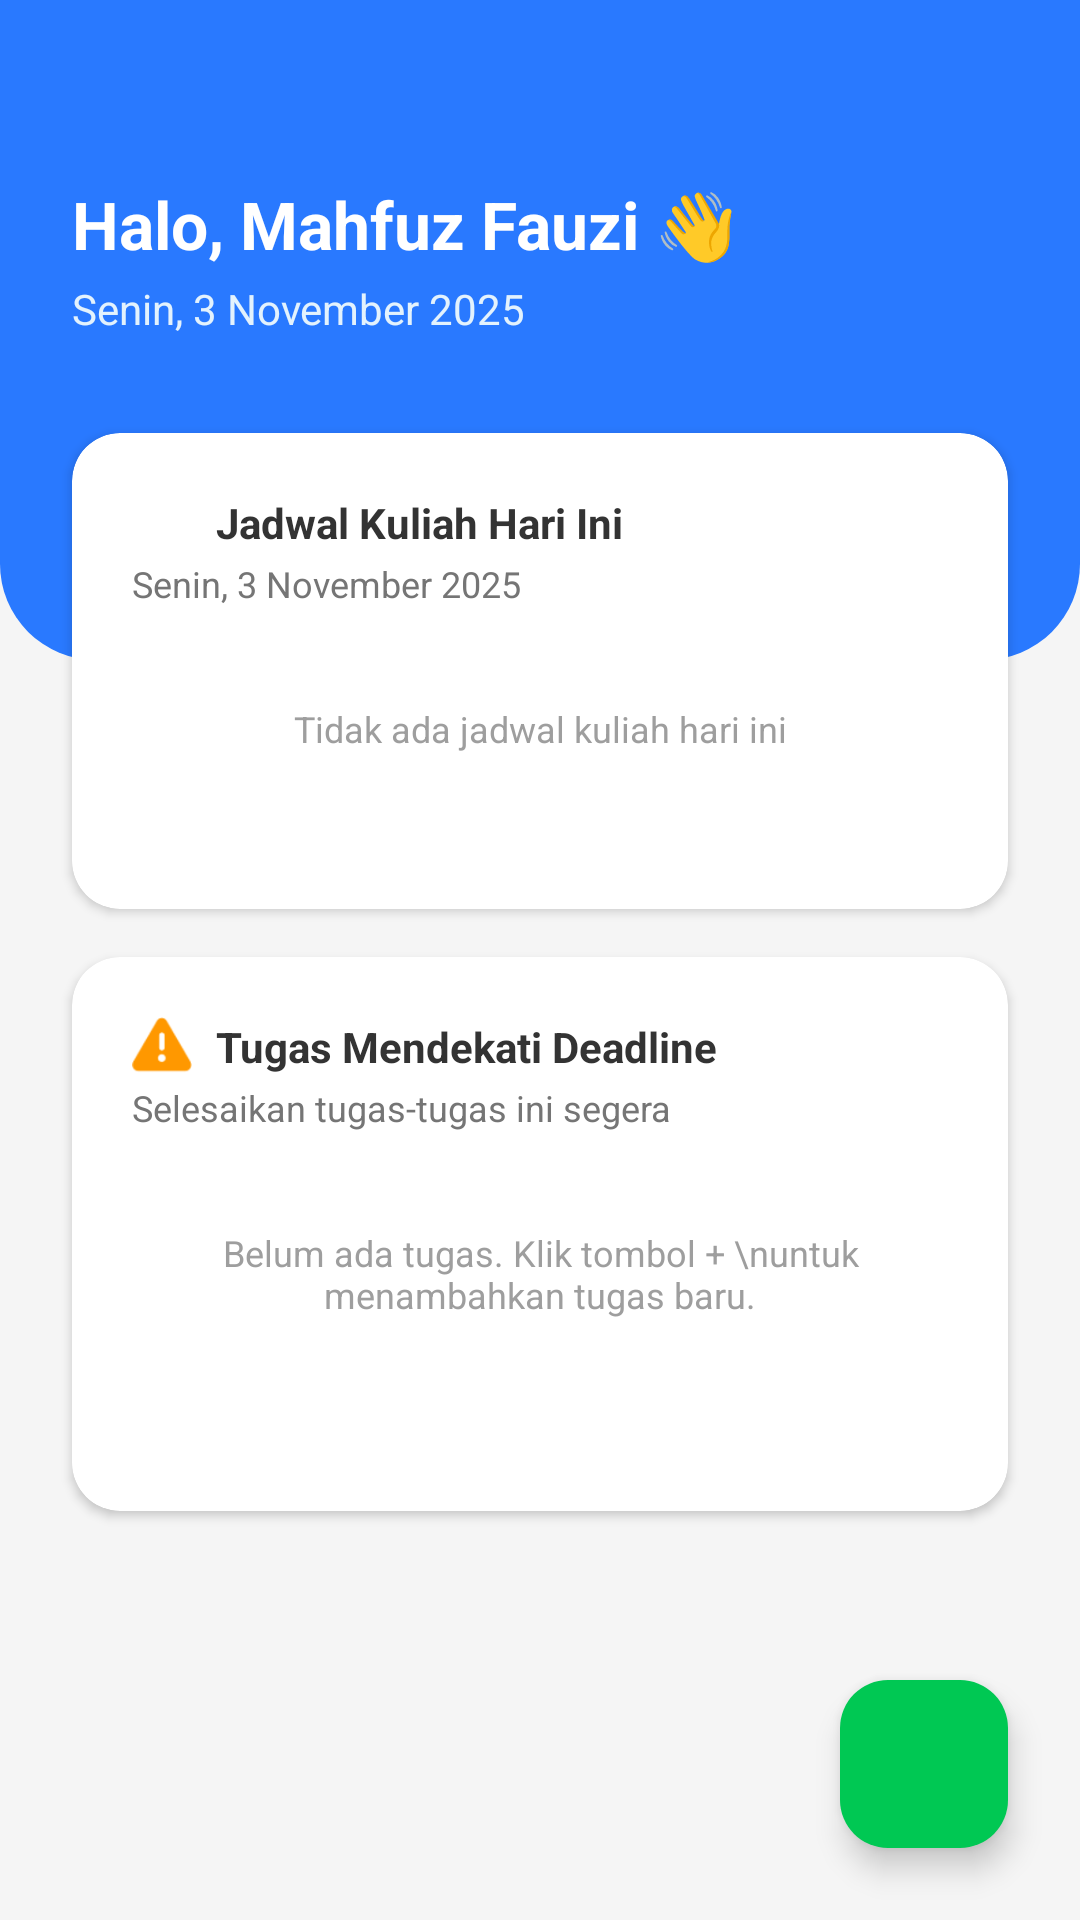

Icons on this 1080px×1920px Android screen, each with its box as box=[x1, y1, x2, y2]:
alert: box=[132, 1017, 192, 1072]
